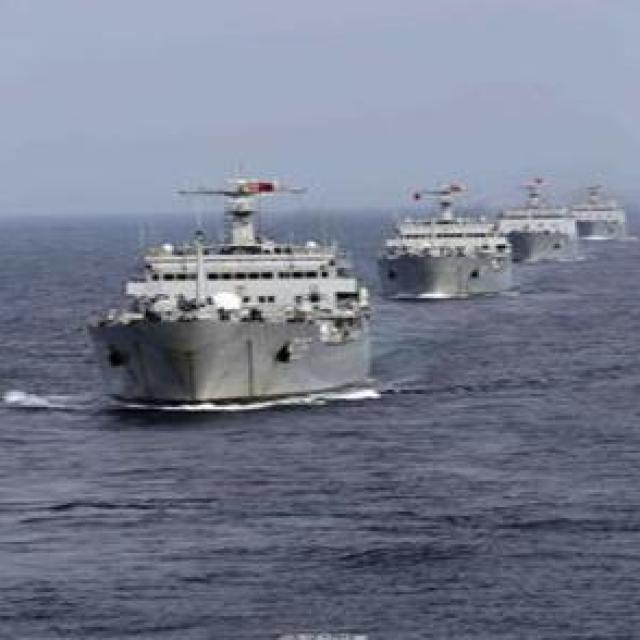navalvessels: (93, 165, 374, 403), (381, 176, 510, 296), (488, 172, 580, 258), (569, 181, 631, 244)
